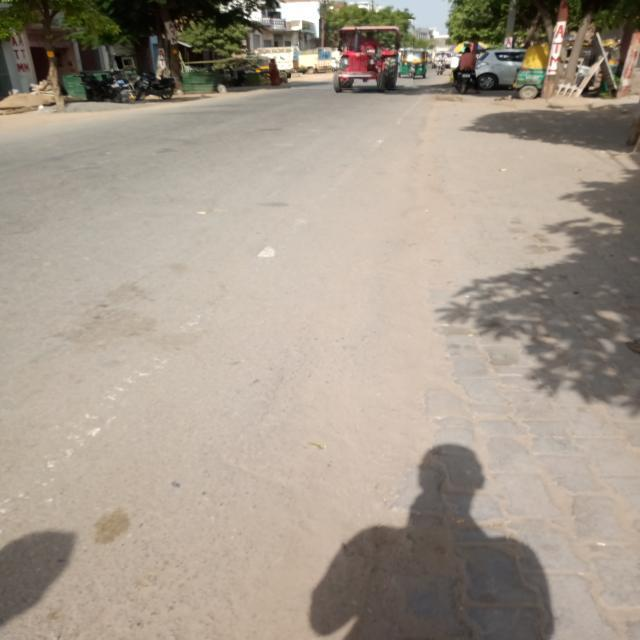Tractot: (292, 20, 414, 90)
